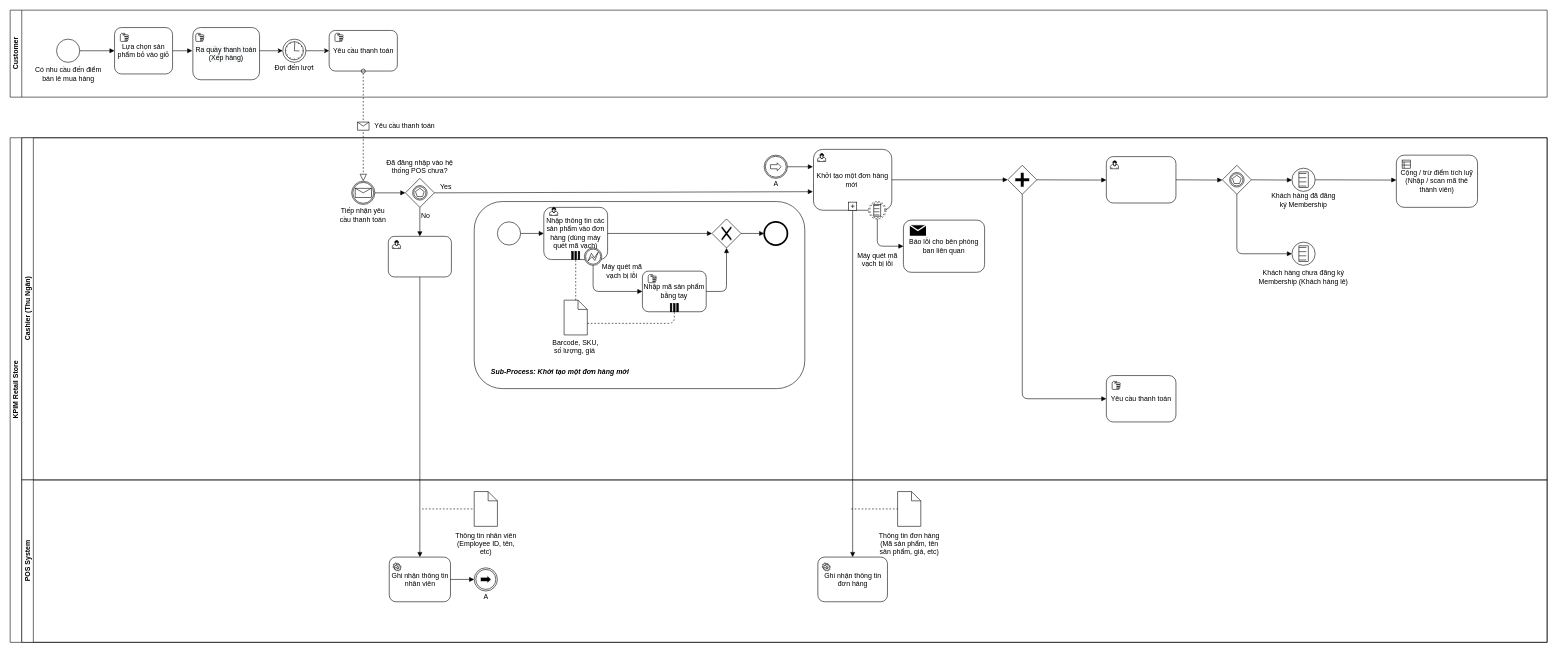
Some shapes in this 1557 by 653 pixel diagram are drawn without their labels. Here are the shapes that lost their labels. From the top down, the centre of each, then its label:
At pixel 1141 179: "Kiểm tra thông tin khách hàng".
At pixel 419 256: "Đăng nhập vào hệ thống POS".
